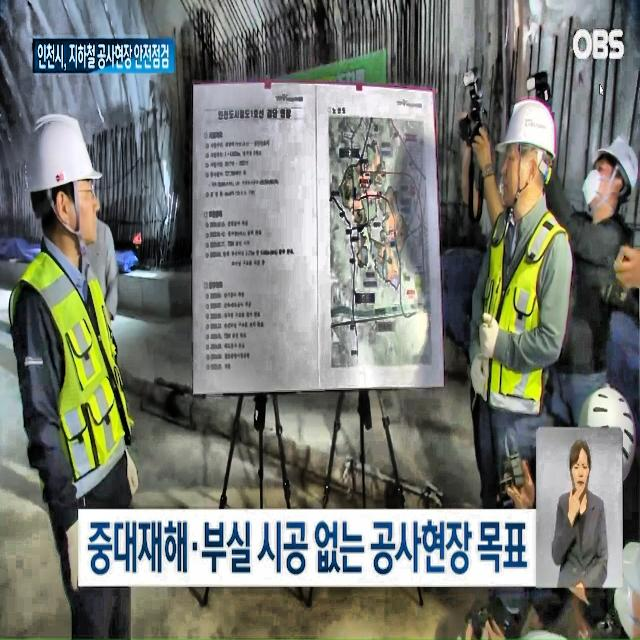safety_helmet: (15, 110, 109, 215), (578, 375, 640, 492), (498, 88, 551, 173), (593, 121, 640, 197)
safety_jacket: (11, 268, 170, 533), (475, 208, 580, 437)
